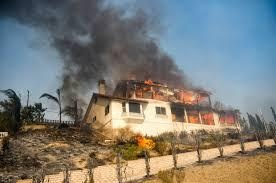fire: (178, 88, 205, 103), (133, 133, 153, 148), (143, 78, 155, 87)
